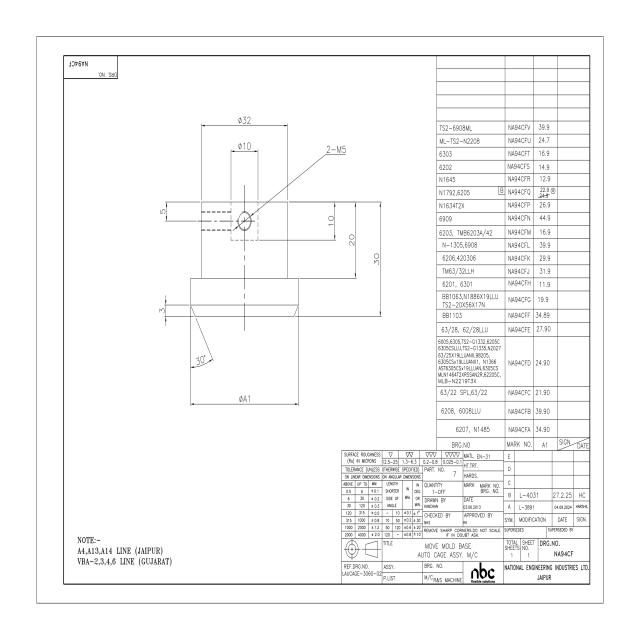dimension: (326, 142, 346, 154), (195, 353, 207, 367), (236, 115, 252, 125), (237, 140, 252, 150), (238, 394, 251, 404), (372, 251, 380, 266), (327, 214, 335, 227), (348, 233, 355, 247), (158, 208, 166, 215), (158, 307, 165, 314)
